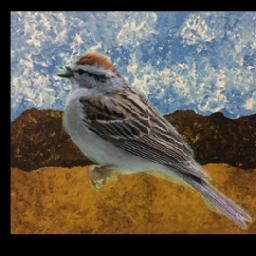Sparrow: (53, 49, 252, 230)
